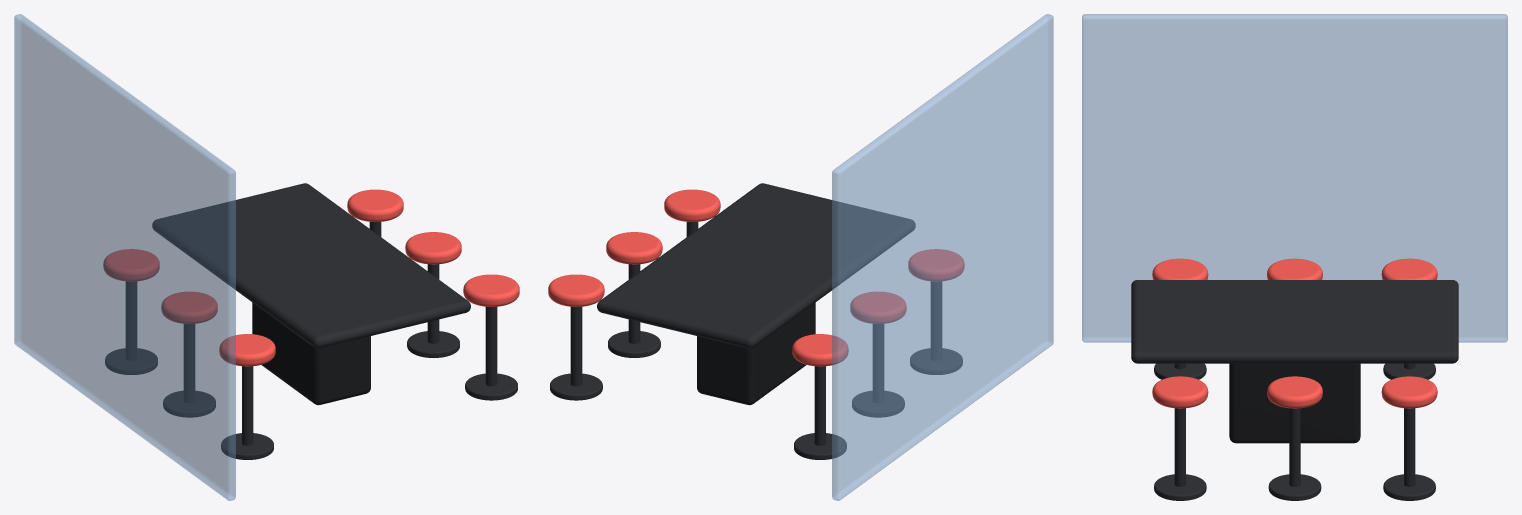
The model's file is corporate_office__boardroom.glb.
3 renders of one model, left to right at view 1: azimuth 30°, elevation 25°; view 2: azimuth 150°, elevation 25°; view 3: azimuth 270°, elevation 25°, orthographic.
Parts seen in each view (by area): view 1: Set; view 2: Set; view 3: Set.
Part boxes in pixels (box(x1,y1,x2,y2)): Set: box(14, 14, 519, 500); Set: box(548, 14, 1053, 500); Set: box(1082, 14, 1507, 500).
Bounding box in the file's own units: 2.35 × 2.2 × 2.6.
